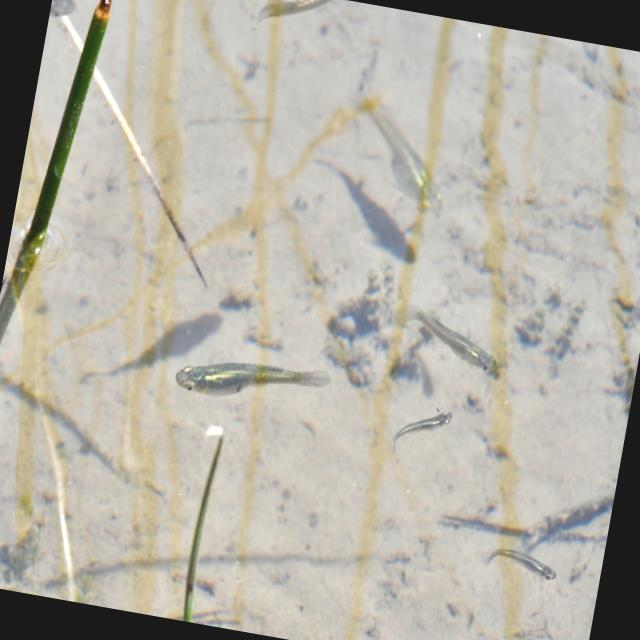Sivrisinek Baligi: (354, 98, 459, 222), (172, 342, 334, 418), (400, 304, 510, 379), (482, 542, 570, 587), (387, 400, 452, 459)
